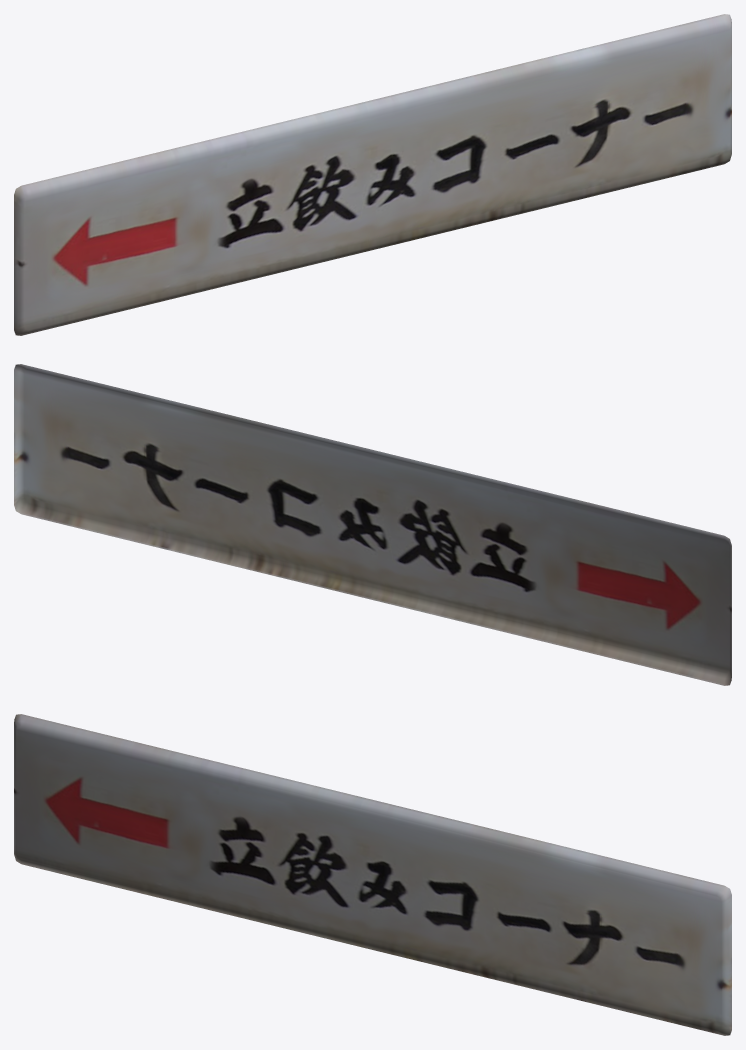
Rendered from Sign_03.FBX.
The picture shows the model from 3 angles, top to bottom: view 1: azimuth 30°, elevation 25°; view 2: azimuth 150°, elevation 25°; view 3: azimuth 330°, elevation 25°; orthographic projection.
Visible parts, largest first — view 1: Sign_03; view 2: Sign_03; view 3: Sign_03.
Boxes of the visible parts, bbox=[...] form: Sign_03: bbox=[14, 14, 731, 335]; Sign_03: bbox=[14, 364, 731, 685]; Sign_03: bbox=[14, 714, 731, 1035].
Bounding box in the file's own units: 100 × 20 × 1.
